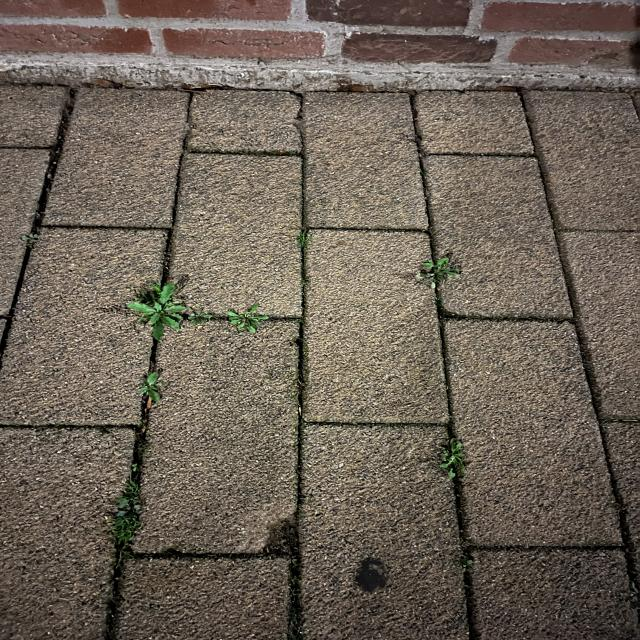pavement: (8, 87, 640, 246), (496, 249, 640, 635), (183, 510, 519, 640), (208, 354, 428, 503), (0, 240, 120, 460), (313, 243, 420, 420), (0, 472, 88, 640)
weed: (108, 459, 152, 568), (131, 278, 195, 333), (134, 359, 200, 407), (221, 300, 276, 338), (448, 434, 475, 475), (425, 250, 454, 279)
